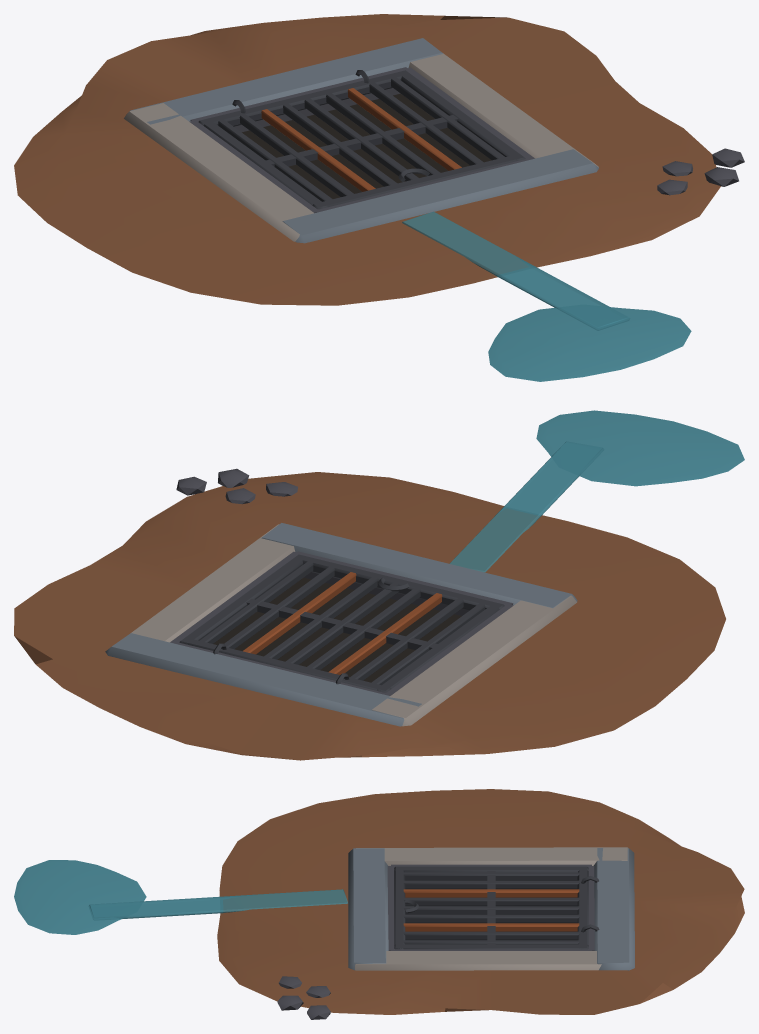
Rendered from deco_drain_grate.fbx.
The picture shows the model from 3 angles, top to bottom: view 1: azimuth 30°, elevation 25°; view 2: azimuth 150°, elevation 25°; view 3: azimuth 270°, elevation 25°; orthographic projection. The views are drawn at different scales.
Parts seen in each view (by area): view 1: DrainGrate_Stain, DrainGrate_Frame, DrainGrate_Grate; view 2: DrainGrate_Stain, DrainGrate_Frame, DrainGrate_Grate; view 3: DrainGrate_Stain, DrainGrate_Frame, DrainGrate_Grate.
Part boxes in pixels (bbox=[...]): DrainGrate_Stain: bbox=[14, 14, 744, 381]; DrainGrate_Frame: bbox=[124, 38, 598, 243]; DrainGrate_Grate: bbox=[198, 70, 525, 209]; DrainGrate_Stain: bbox=[14, 410, 744, 760]; DrainGrate_Frame: bbox=[105, 523, 577, 726]; DrainGrate_Grate: bbox=[179, 554, 504, 692]; DrainGrate_Stain: bbox=[14, 789, 744, 1019]; DrainGrate_Frame: bbox=[348, 847, 634, 970]; DrainGrate_Grate: bbox=[394, 866, 599, 949].
Size of the model in its own units: 190 by 12.7 by 255.
